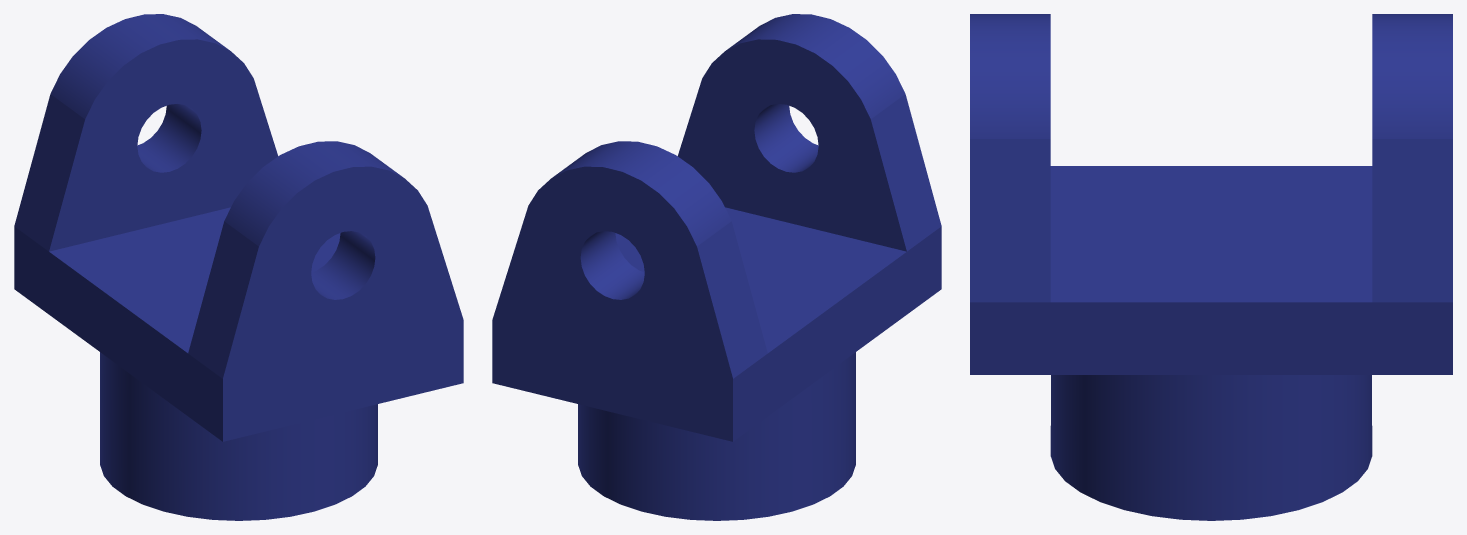
File: driving+yoke.obj
The picture shows the model from 3 angles, left to right: view 1: azimuth 30°, elevation 25°; view 2: azimuth 150°, elevation 25°; view 3: azimuth 270°, elevation 25°; orthographic projection. The views are drawn at different scales.
Visible parts, largest first — view 1: Body1; view 2: Body1; view 3: Body1.
Boxes of the visible parts, x1,y1,x2,y2 form: Body1: [14, 14, 463, 520]; Body1: [492, 14, 941, 520]; Body1: [970, 14, 1452, 520].
Bounding box in the file's own units: 60 × 87.87 × 90.
